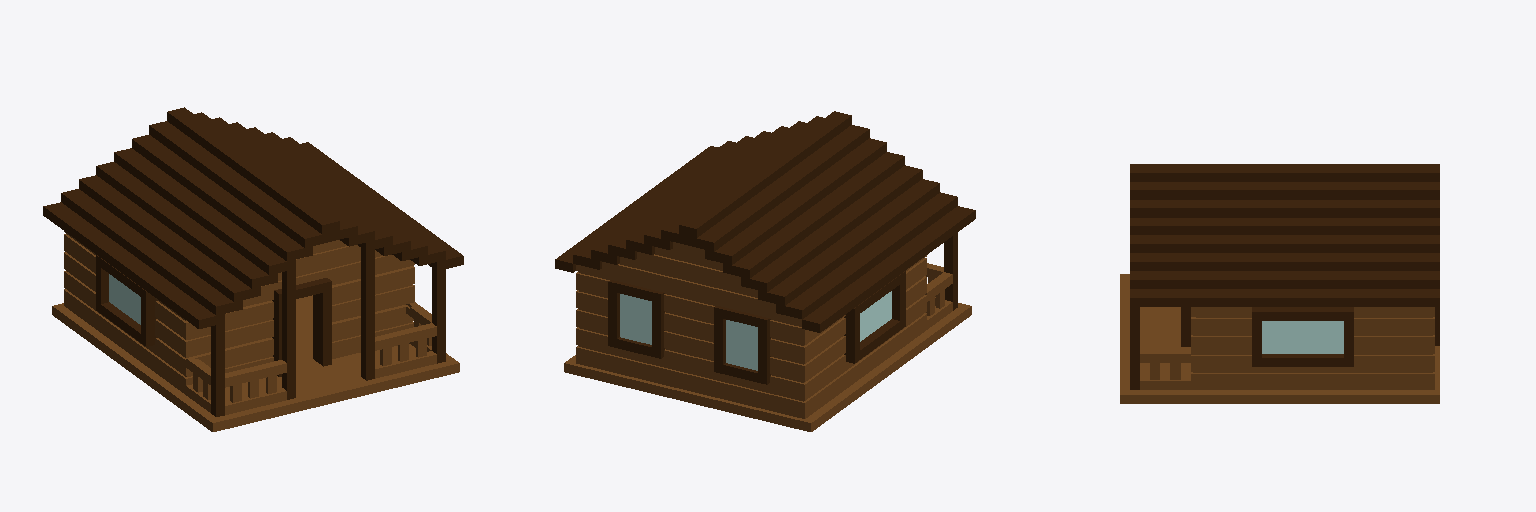
The picture shows the model from 3 angles: view 1: azimuth 30°, elevation 25°; view 2: azimuth 150°, elevation 25°; view 3: azimuth 270°, elevation 25°; orthographic projection.
Visible parts, largest first — view 1: Shed; view 2: Shed; view 3: Shed.
Part boxes in pixels (bbox=[...]): Shed: bbox=[43, 107, 463, 431]; Shed: bbox=[555, 111, 975, 431]; Shed: bbox=[1120, 164, 1439, 403].
Bounding box in the file's own units: 120 × 76 × 126.
Materials: 1 (1 with a texture image).